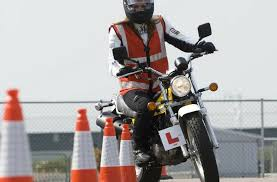motorcycle: (118, 23, 221, 182)
